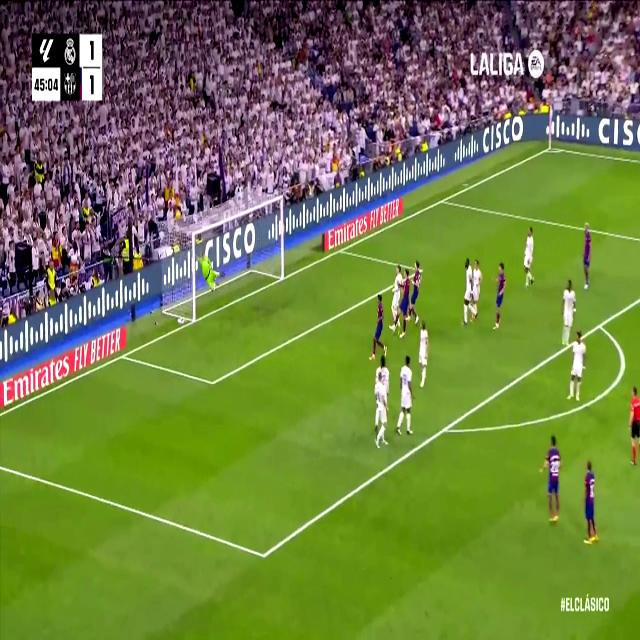bigarea_bottom_inner: (257, 538, 271, 572)
bigarea_top_outter: (438, 191, 448, 208)
bottom_arc_area_intersection: (438, 415, 452, 442)
corner: (546, 143, 554, 153)
smallarea_bottom_outter: (119, 347, 128, 364)
top_arc_area_intersection: (595, 314, 605, 336)
